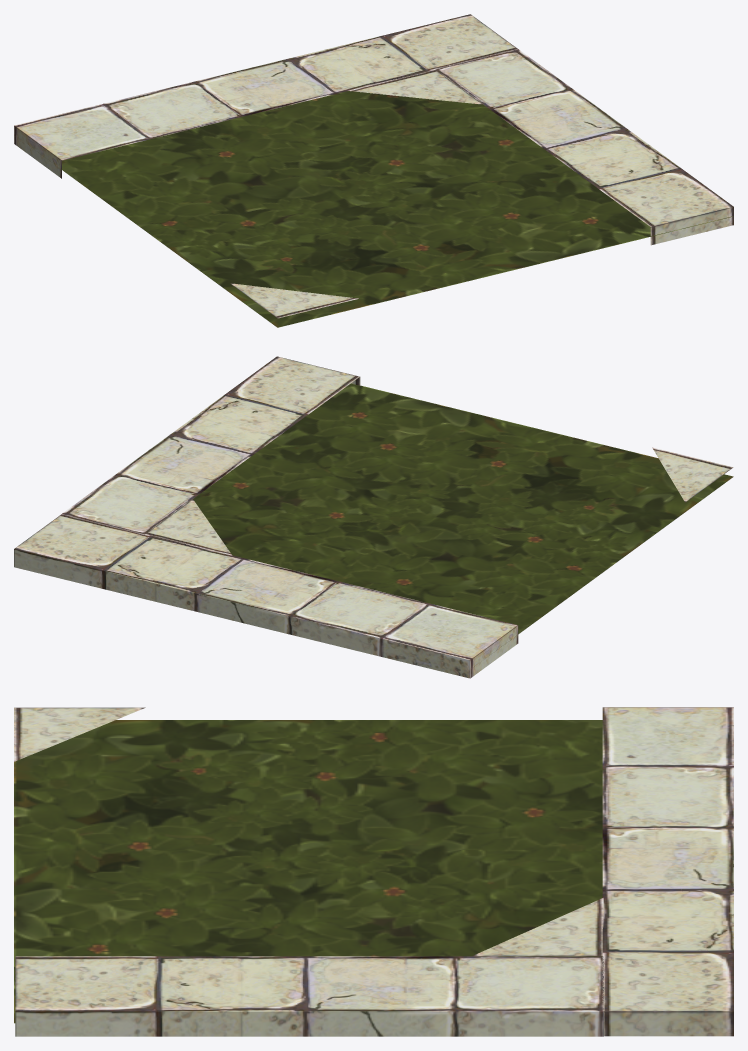
File: walkable tiles regular v2.FBX
The picture shows the model from 3 angles, top to bottom: view 1: azimuth 30°, elevation 25°; view 2: azimuth 150°, elevation 25°; view 3: azimuth 270°, elevation 25°; orthographic projection. The views are drawn at different scales.
Parts seen in each view (by area): view 1: Box165; view 2: Box165; view 3: Box165.
Boxes of the visible parts, <box> form: Box165: <box>14,14,733,327</box>; Box165: <box>14,356,733,678</box>; Box165: <box>14,707,733,1036</box>.
Size of the model in its own units: 74.28 by 2.84 by 74.28.
1 material, 1 textured.
